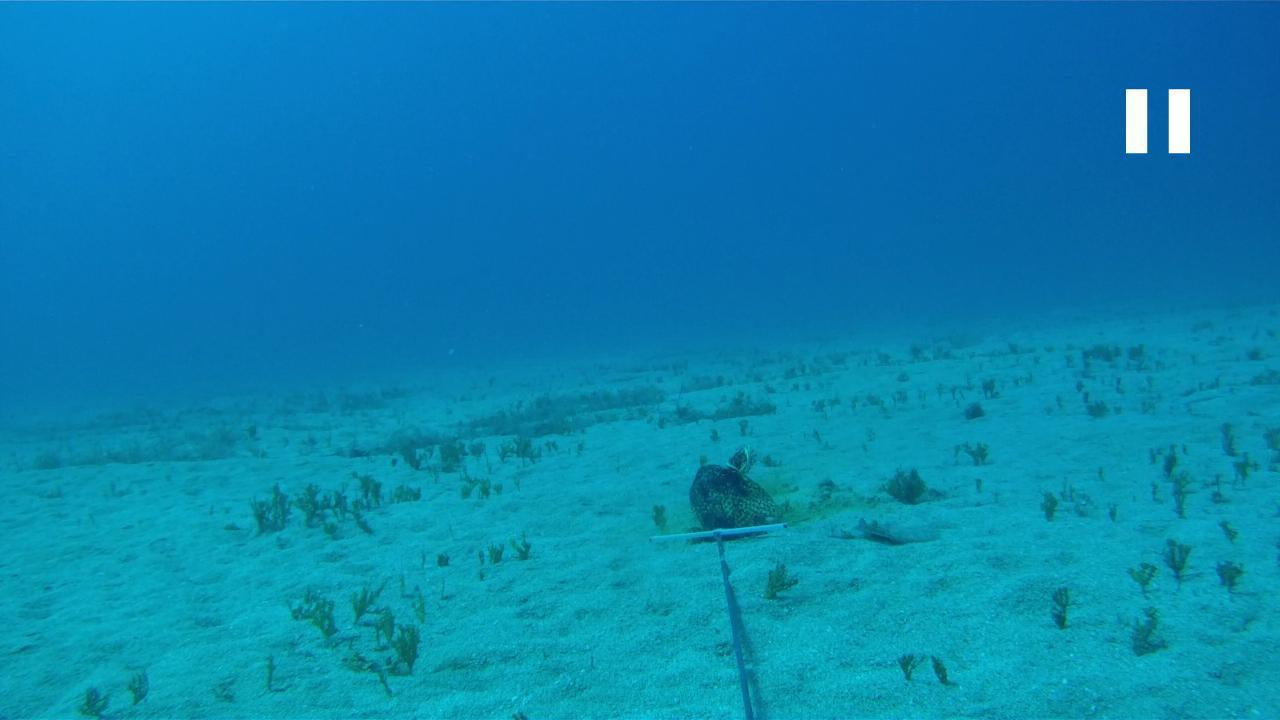bothus: (844, 512, 950, 545)
